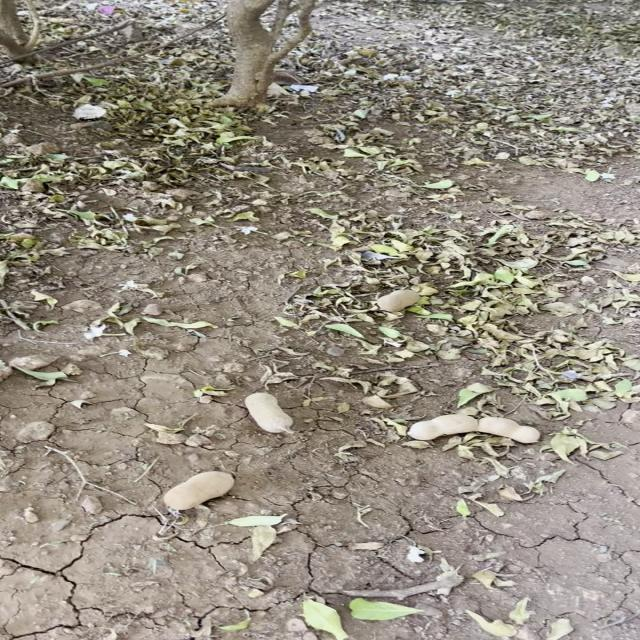tamarind: (398, 413, 540, 442), (160, 466, 234, 519), (236, 391, 305, 438), (374, 286, 414, 314)
